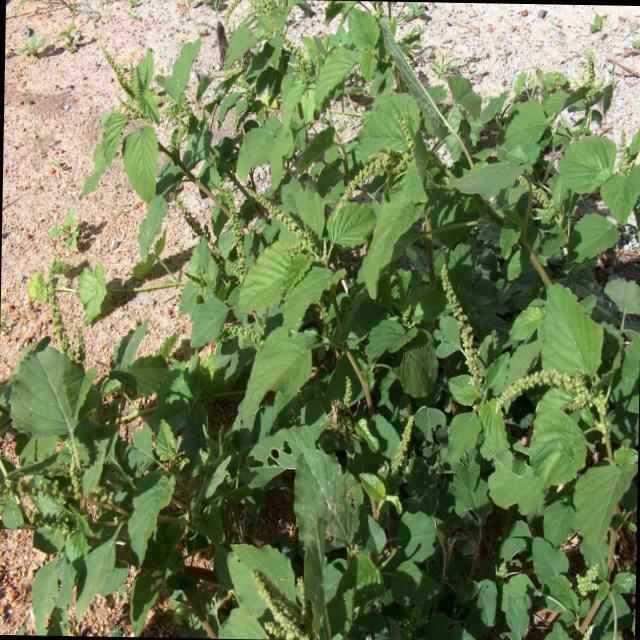Medicinal-Arive Dantu: (424, 259, 640, 640), (2, 319, 210, 625), (244, 87, 431, 414), (219, 420, 443, 639), (451, 96, 640, 260), (94, 51, 248, 222)
